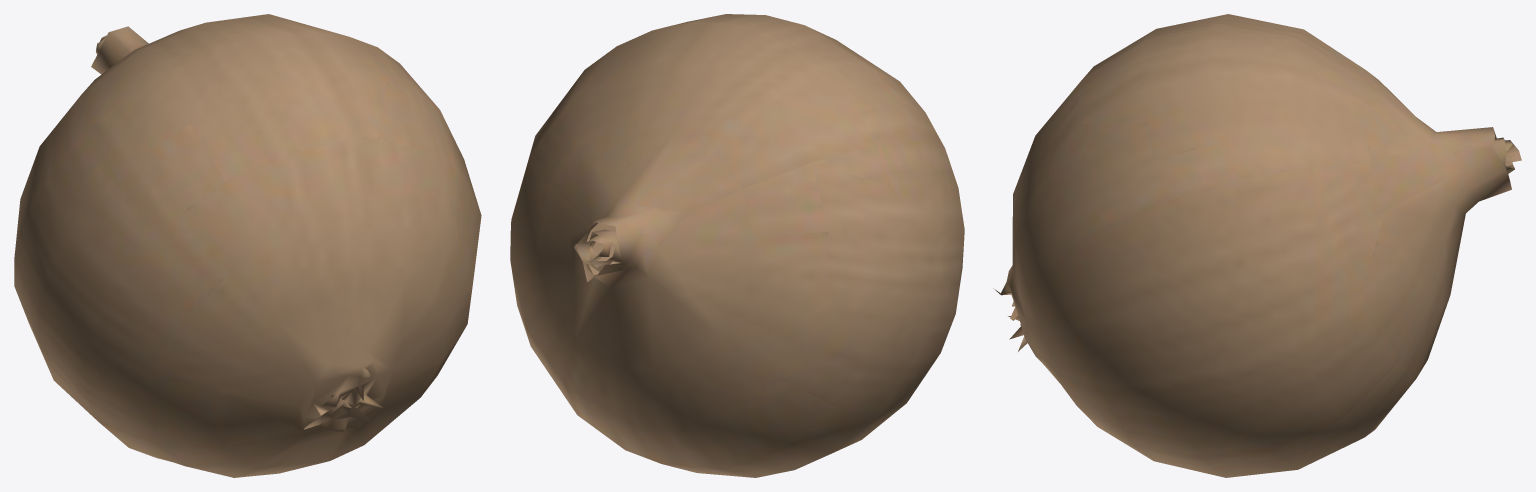
Rendered from SM_配餐室_水果蔬菜_15.fbx.
3 views of the same model, side by side, from view 1: azimuth 30°, elevation 25°; view 2: azimuth 150°, elevation 25°; view 3: azimuth 270°, elevation 25° (orthographic).
Visible parts, largest first — view 1: SM_配餐室_水果蔬菜_15; view 2: SM_配餐室_水果蔬菜_15; view 3: SM_配餐室_水果蔬菜_15.
Boxes of the visible parts, x1,y1,x2,y2 form: SM_配餐室_水果蔬菜_15: (14, 14, 481, 477); SM_配餐室_水果蔬菜_15: (510, 14, 964, 477); SM_配餐室_水果蔬菜_15: (993, 14, 1521, 477).
Size of the model in its own units: 67.98 by 67.98 by 77.72.
